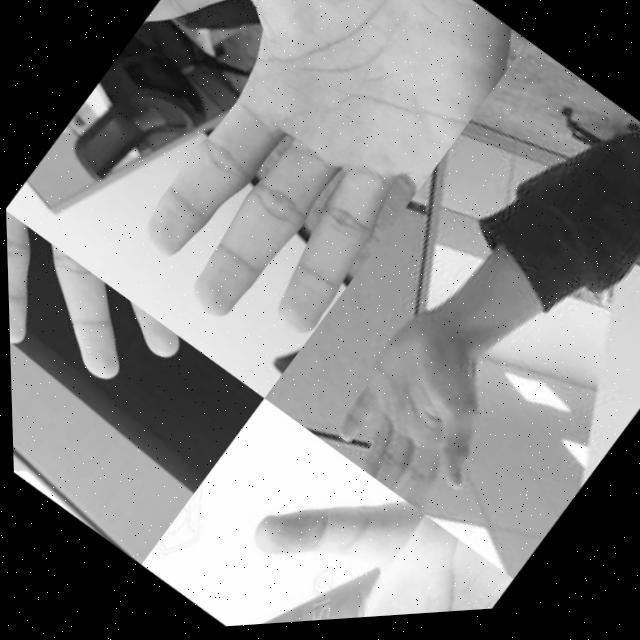no-gloves: (19, 0, 535, 387), (188, 432, 510, 631), (4, 199, 210, 454), (308, 300, 532, 532)
